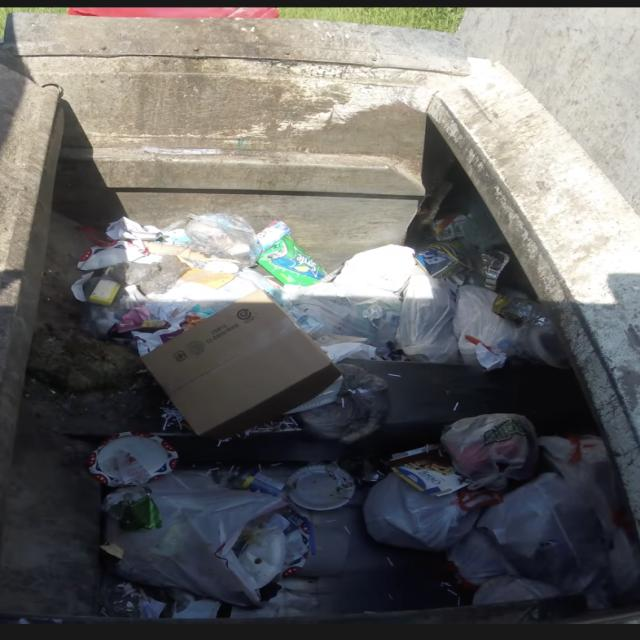bag: (86, 480, 342, 622), (320, 245, 504, 368), (477, 497, 621, 604), (440, 394, 552, 498)
cardboard: (135, 289, 328, 453)
paper: (227, 218, 332, 289)
trash: (271, 465, 370, 519)
